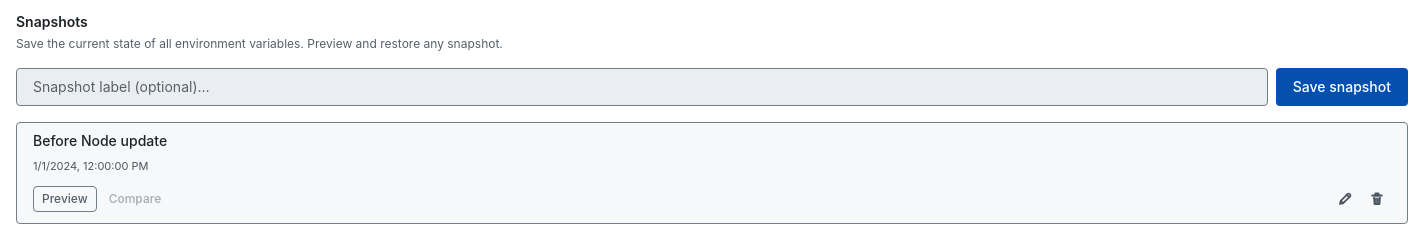
Scenario: SnapshotPanel › cancels renaming with Escape
The image size is (1425, 241).
Expected: the text "Before Node update" is shown, [33,132,167,149]
Click the button named "Rename snapshot": (1345, 199) [1331,185,1359,213]
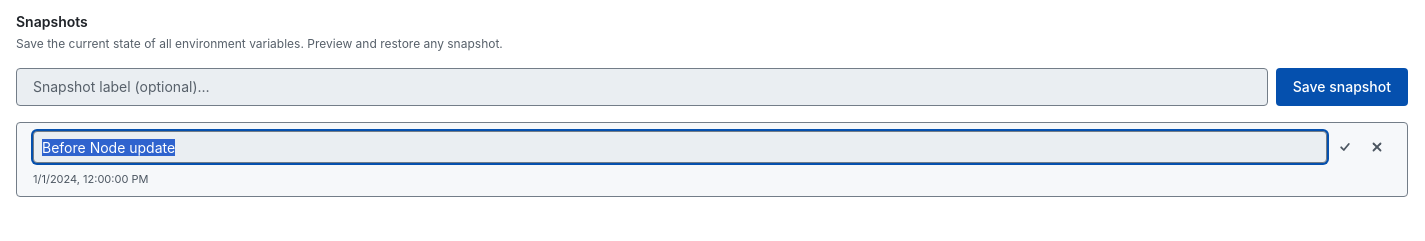
In the field named "Snapshot name": (680, 147) [33,131,1327,163], type " changed"
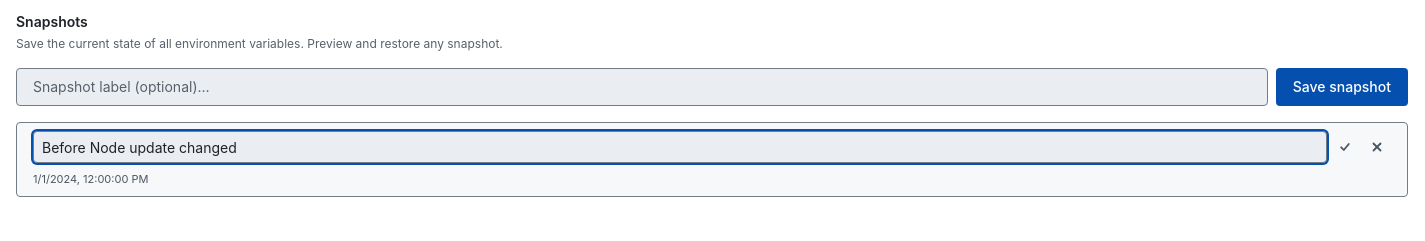
Press Escape
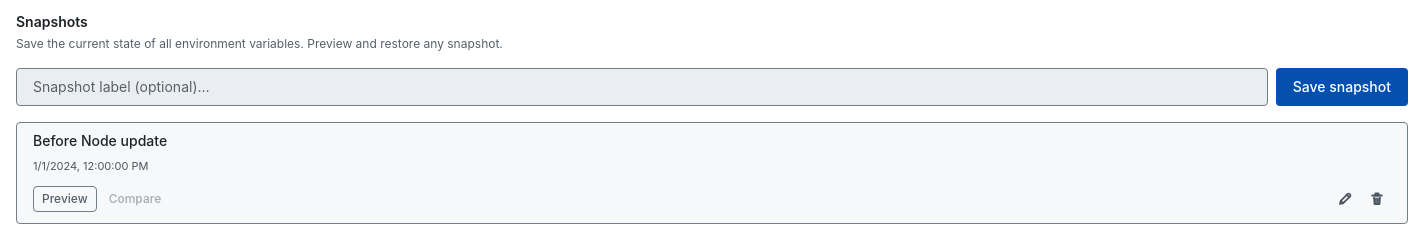
Result: the text "Before Node update" is shown at [33,132,167,149]
